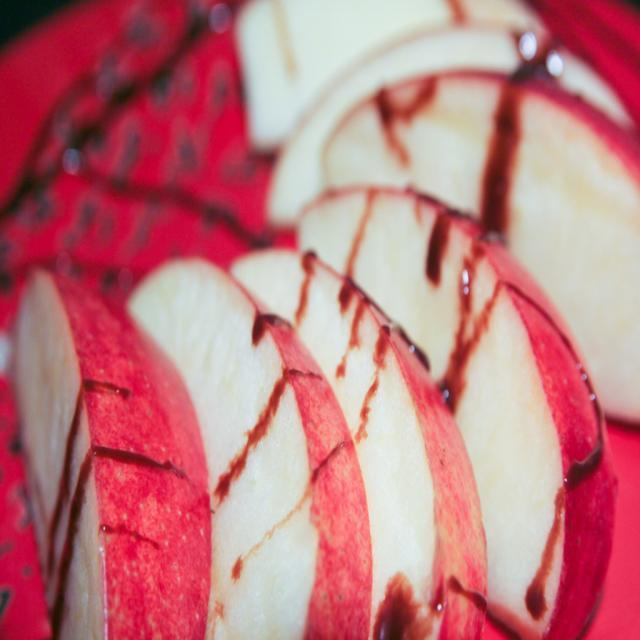Apple pie: (118, 0, 640, 639), (8, 265, 212, 639)
